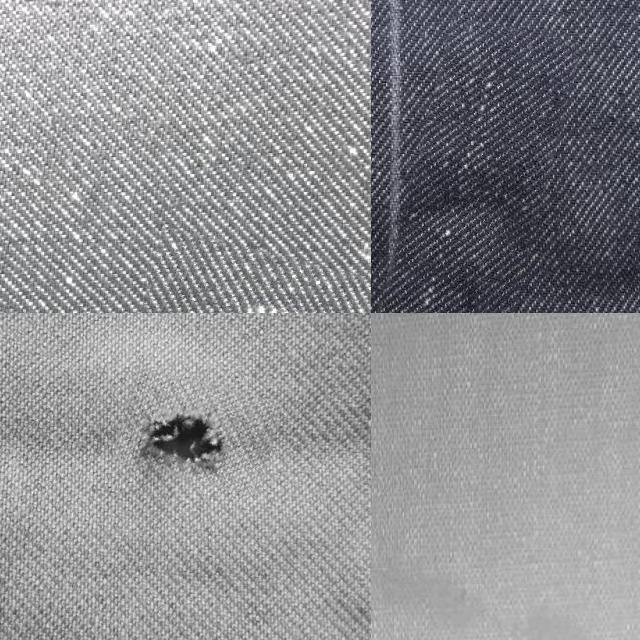Thread_other: (384, 18, 560, 313), (134, 238, 371, 313)
seam: (116, 374, 278, 490)
